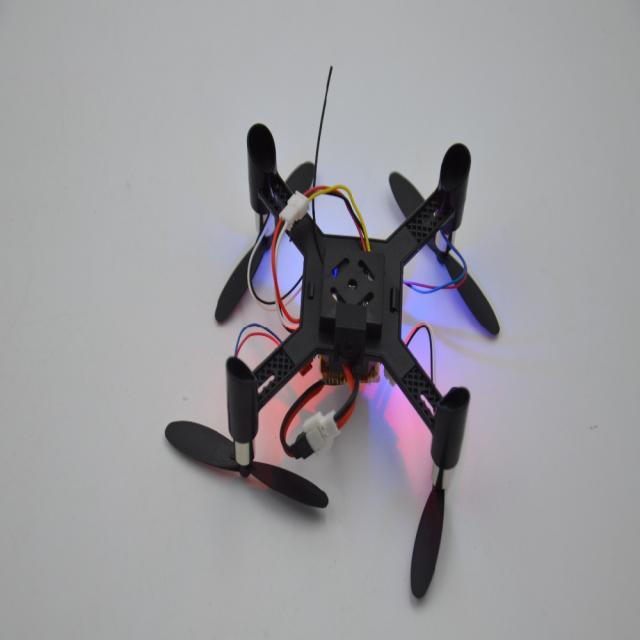drone: (87, 70, 584, 602)
